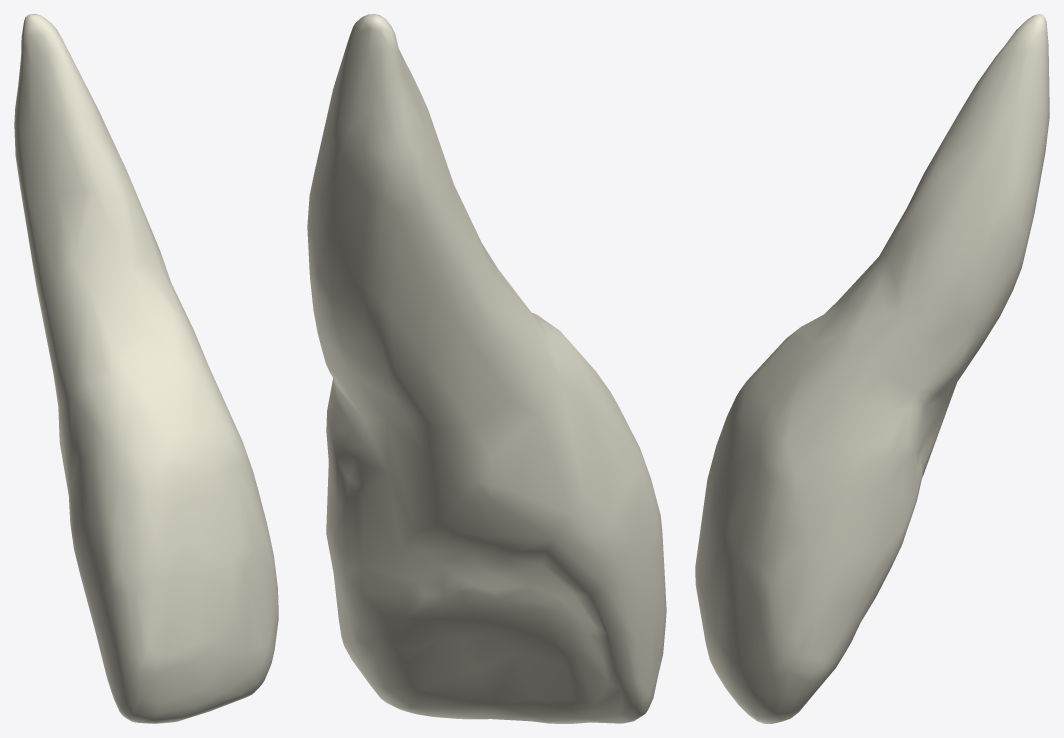
File: Left upper central incisor tooth.fbx
The picture shows the model from 3 angles, left to right: view 1: azimuth 30°, elevation 25°; view 2: azimuth 150°, elevation 25°; view 3: azimuth 270°, elevation 25°; orthographic projection. The views are drawn at different scales.
Visible parts, largest first — view 1: Left upper central incisor tooth; view 2: Left upper central incisor tooth; view 3: Left upper central incisor tooth.
Part boxes in pixels (x1=…): Left upper central incisor tooth: x1=14, y1=14, x2=278, y2=723; Left upper central incisor tooth: x1=307, y1=14, x2=666, y2=723; Left upper central incisor tooth: x1=695, y1=14, x2=1049, y2=723.
Size of the model in its own units: 1.18 by 3.52 by 1.71.
